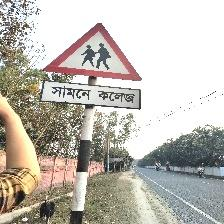College-in-front: (31, 16, 161, 135)
